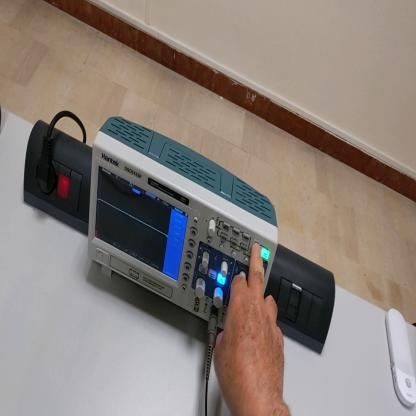hand: (214, 244, 288, 415)
oscilloscope: (87, 116, 278, 332)
socket: (23, 124, 93, 238)
